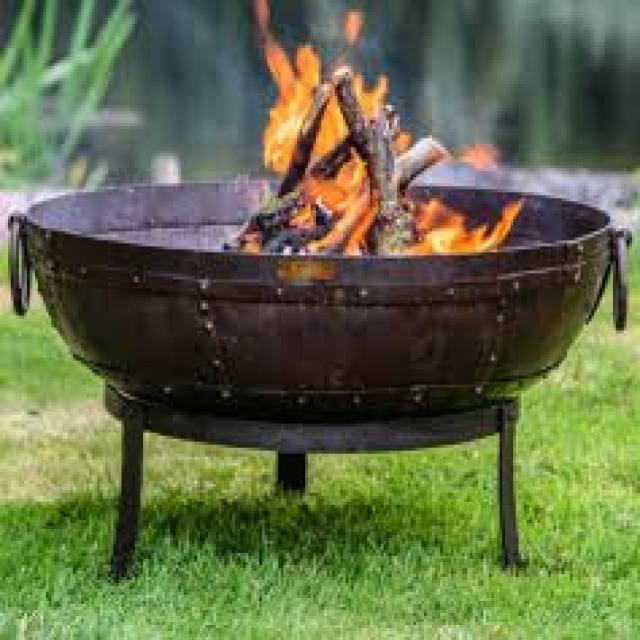fire: (244, 0, 525, 257)
